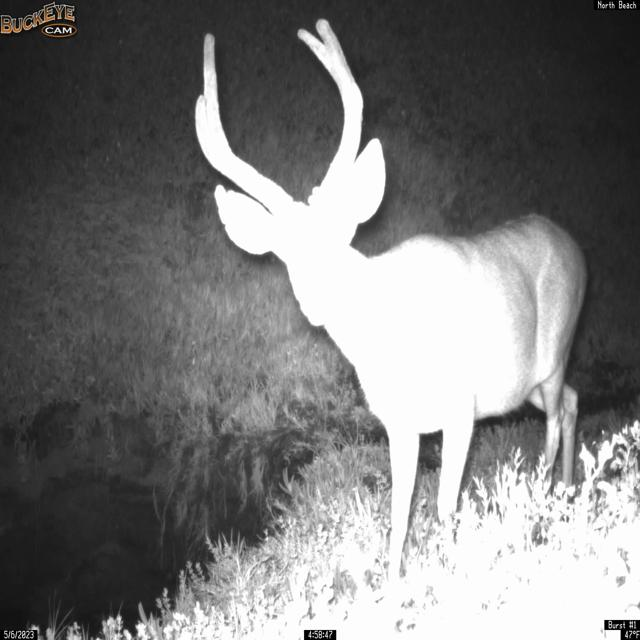deer: (193, 20, 589, 588)
